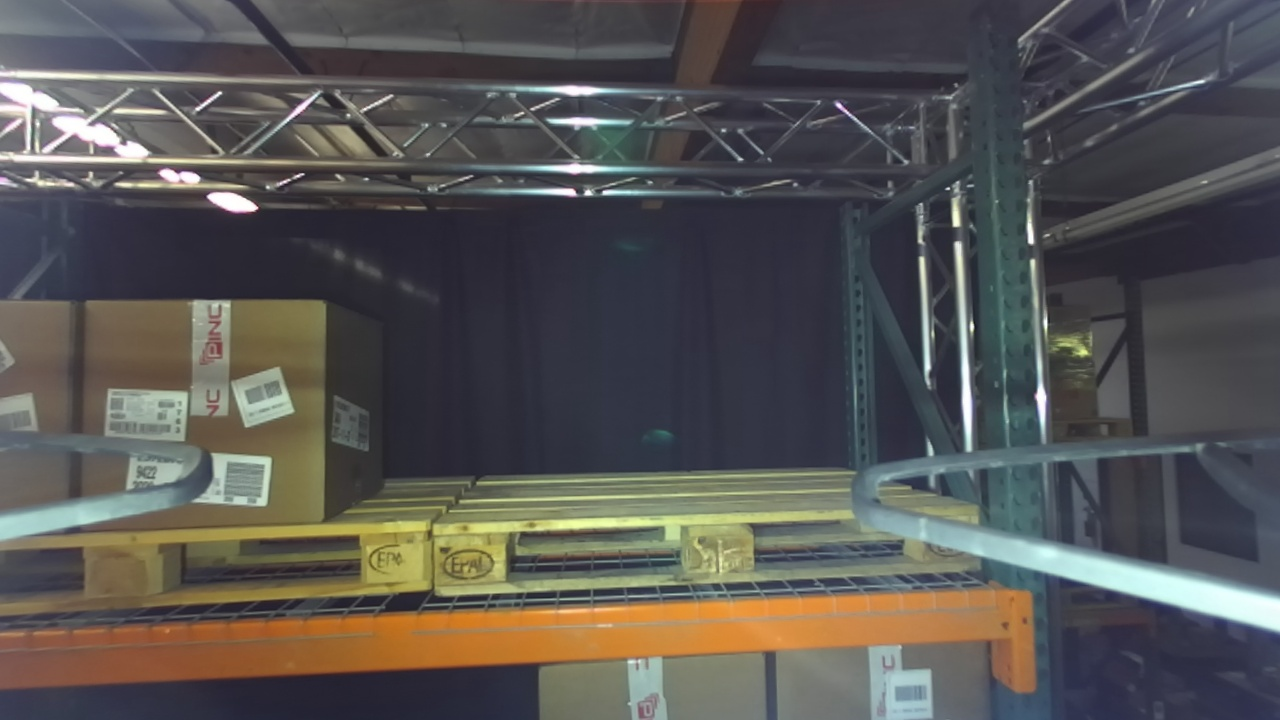box: (52, 270, 352, 547)
